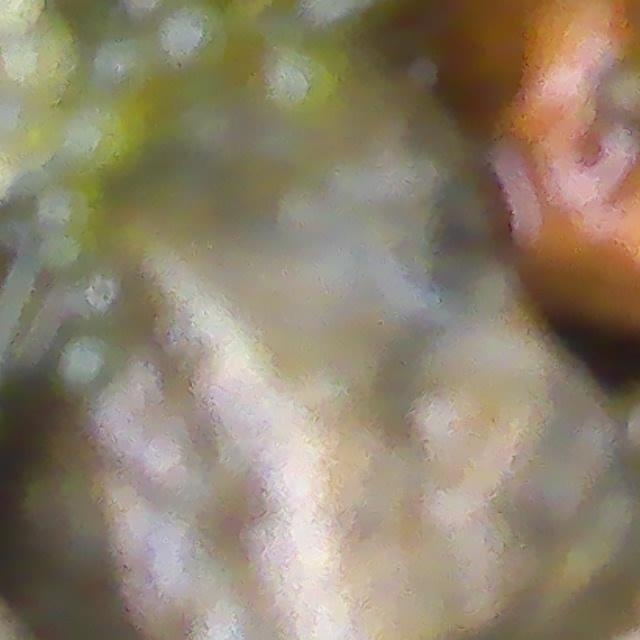SeaGrape: (156, 0, 237, 73), (90, 28, 162, 100)
